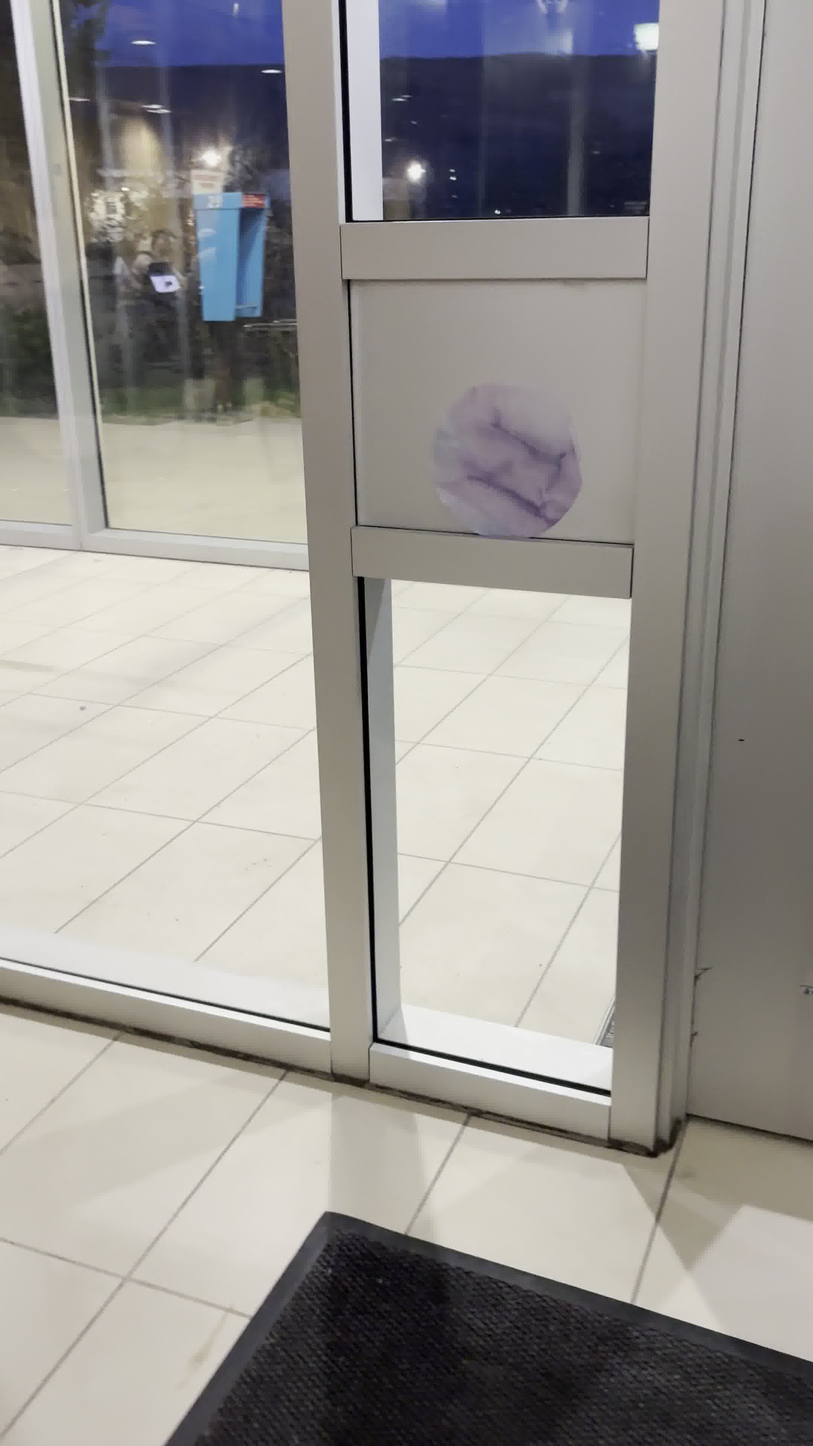Target: (428, 378, 587, 544)
